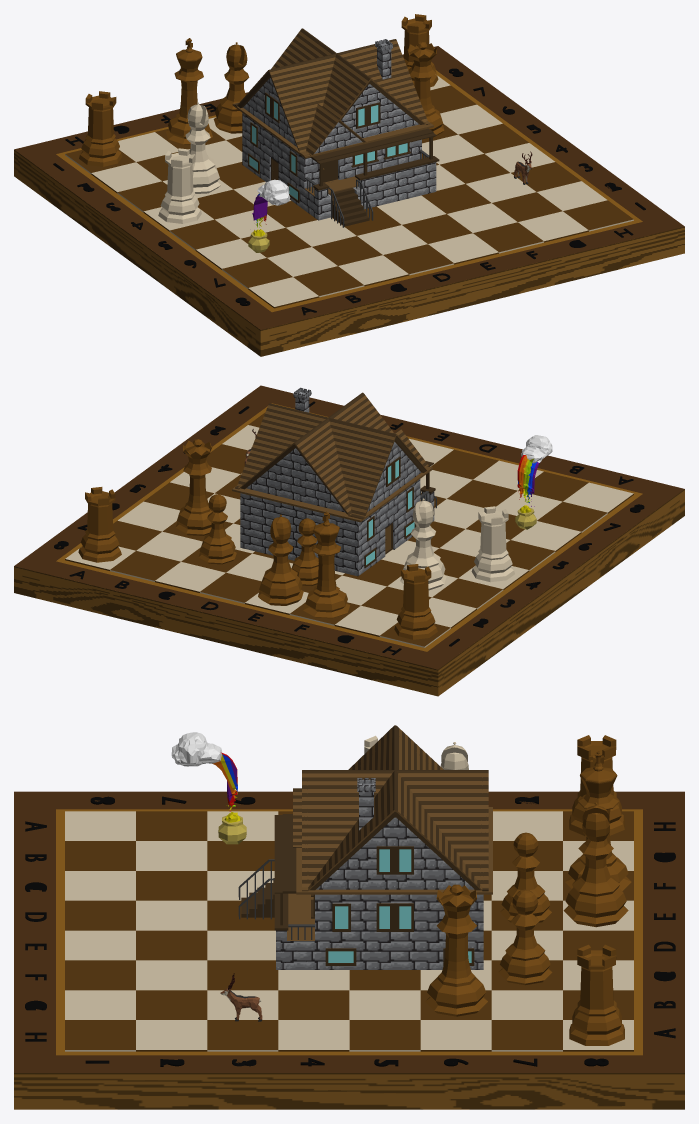
The picture shows the model from 3 angles, top to bottom: view 1: azimuth 30°, elevation 25°; view 2: azimuth 150°, elevation 25°; view 3: azimuth 270°, elevation 25°; orthographic projection. The views are drawn at different scales.
Parts seen in each view (by area): view 1: Cube.002, Cube.586, OBJRANDOM_RAINBOW; view 2: Cube.002, Cube.586, OBJRANDOM_RAINBOW; view 3: Cube.002, Cube.586, OBJRANDOM_RAINBOW, ANIMAL_VENADO.
Boxes of the visible parts, <box> form: Cube.002: <box>14,14,684,356</box>; Cube.586: <box>232,28,439,227</box>; OBJRANDOM_RAINBOW: <box>248,179,290,252</box>; Cube.002: <box>14,385,684,696</box>; Cube.586: <box>232,387,436,576</box>; OBJRANDOM_RAINBOW: <box>515,435,552,529</box>; Cube.002: <box>14,735,684,1109</box>; Cube.586: <box>238,725,492,969</box>; OBJRANDOM_RAINBOW: <box>171,732,246,844</box>; ANIMAL_VENADO: <box>220,973,262,1021</box>.
Bounding box in the file's own units: 3981 × 1493 × 4012.
Materials: 29 (3 with a texture image).
